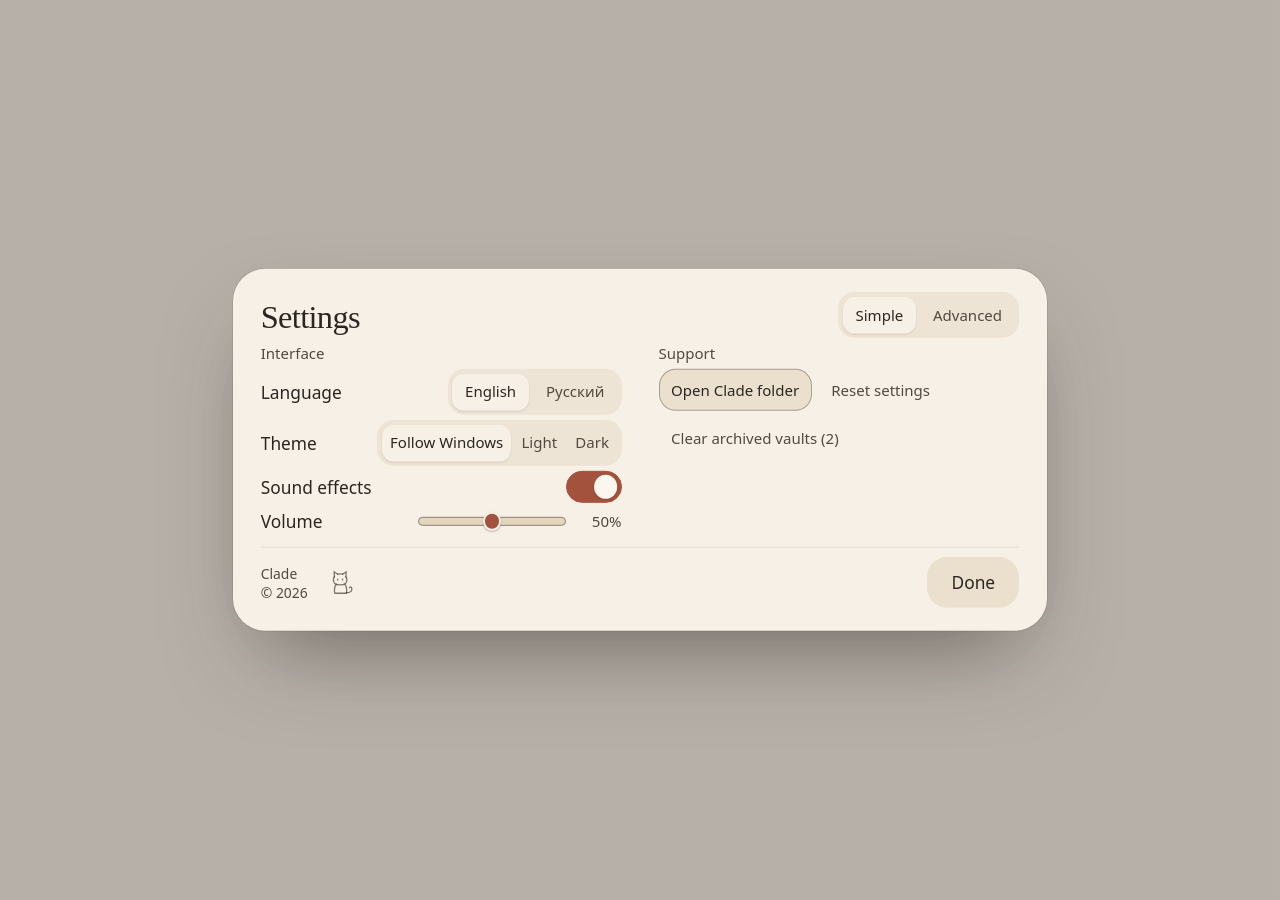
Test: Clearing archived vaults in Settings › shows busy state and ignores duplicate submits while clearing vaults
Later steps or results of the test are not shown.
Step 1. Click the button "Clear archived vaults (2)" → (755, 438), box [658,418,851,459]
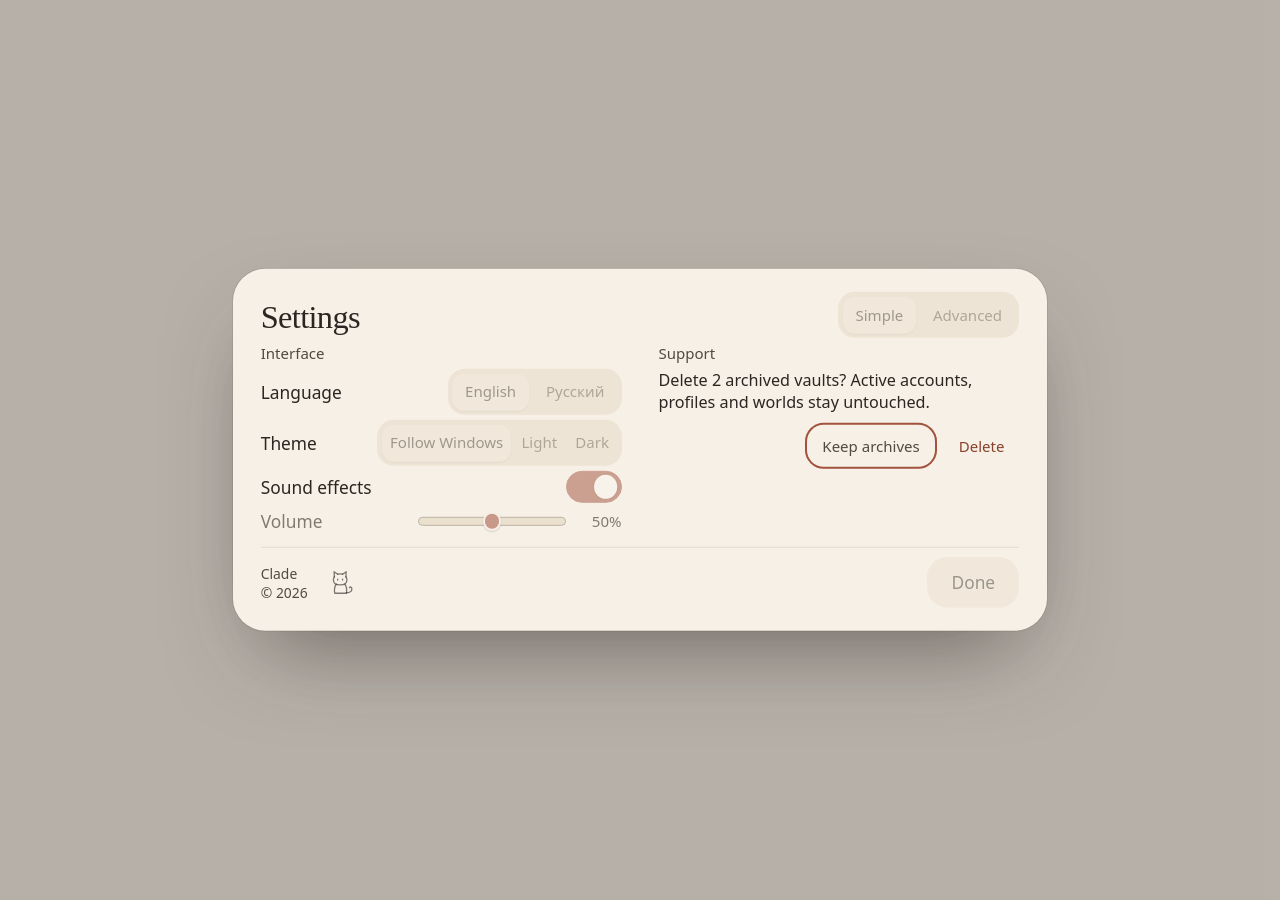
Step 2. Click the button "Delete" → (982, 446), box [944,425,1019,467]
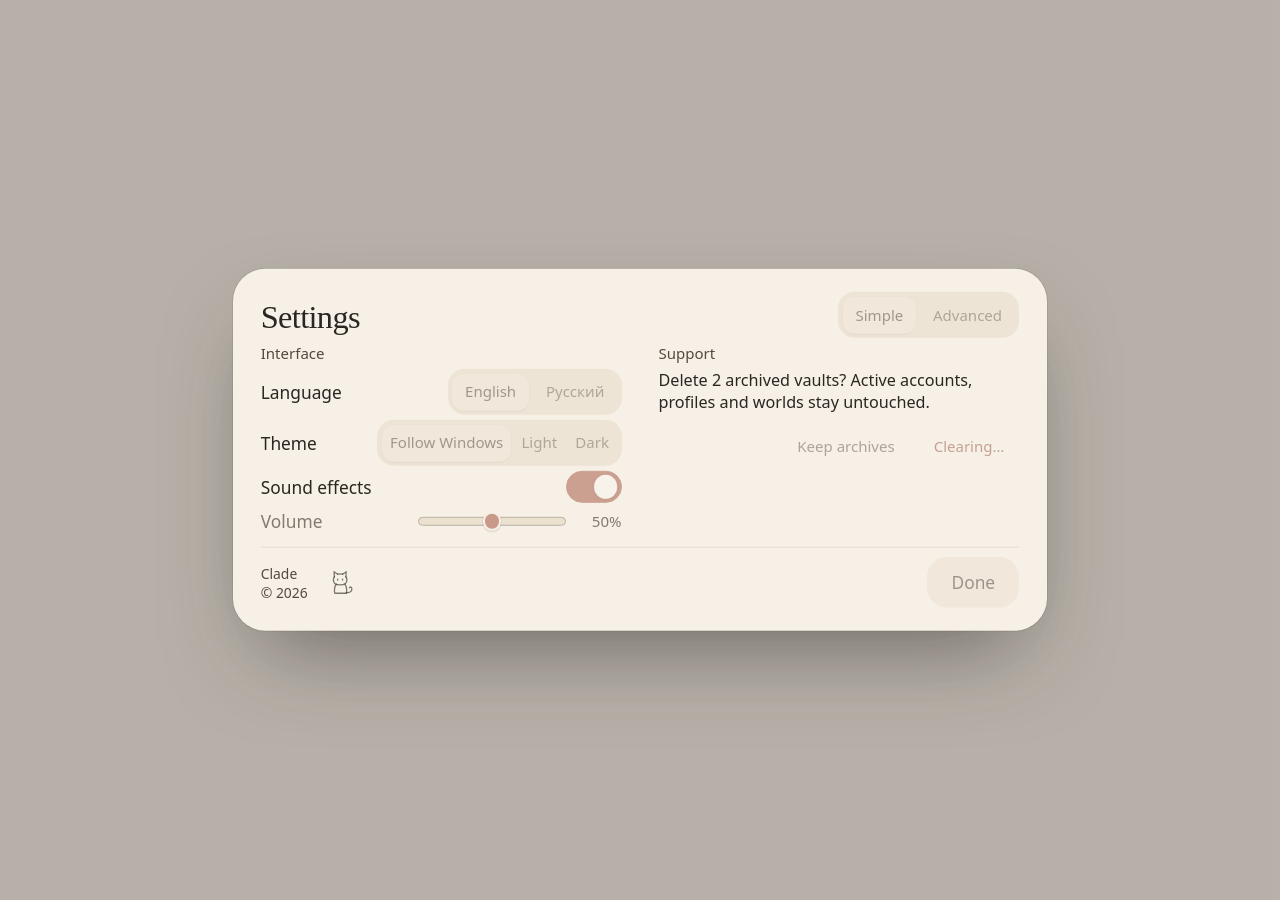
Now the button "Done" is disabled, box [927,557,1019,608]
Now the button "Clearing…" is disabled, box [919,425,1019,467]
Now the button "Keep archives" is disabled, box [782,425,910,467]
